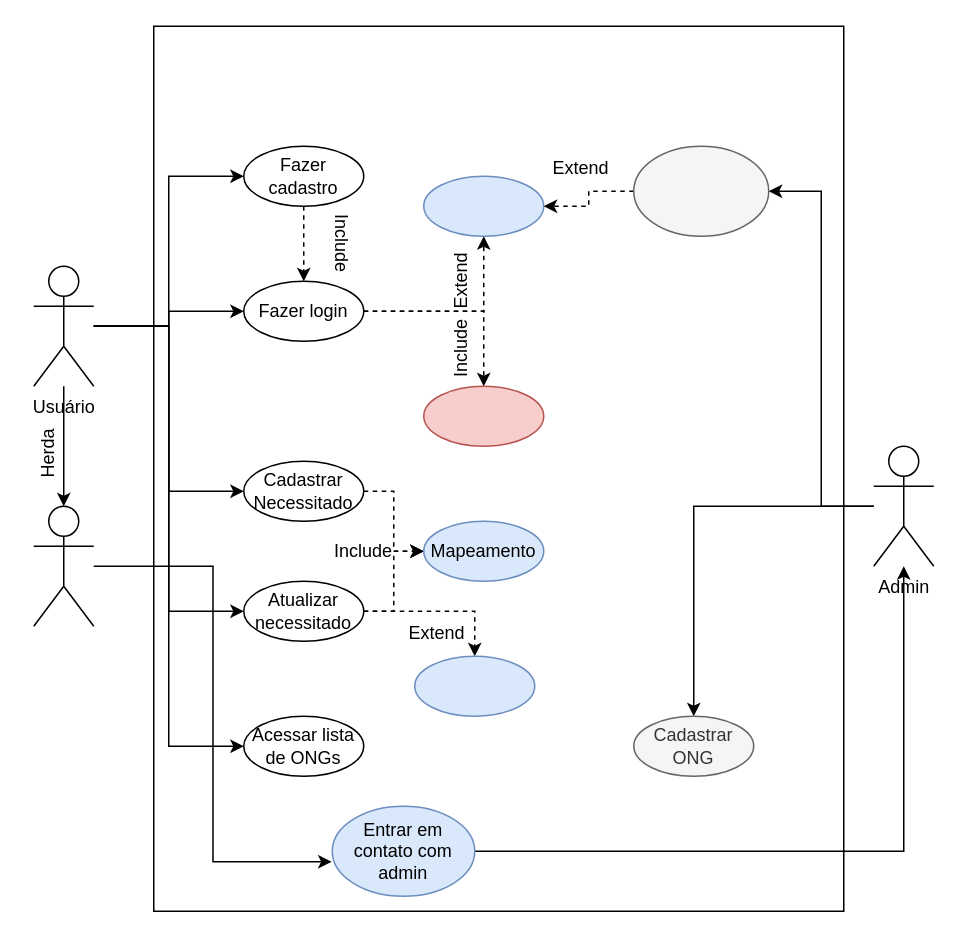
The diagram is 960 pixels wide and 938 high, and some of its shapes have lost their labels. The centre of each missing label's shape, as x and y in pixels:
Alerta de erro no login: (483,415)
Enviar notificações automáticas: (700,190)
Linha do tempo: (474,685)
ONG: (63,565)
Receber notificações: (483,205)
